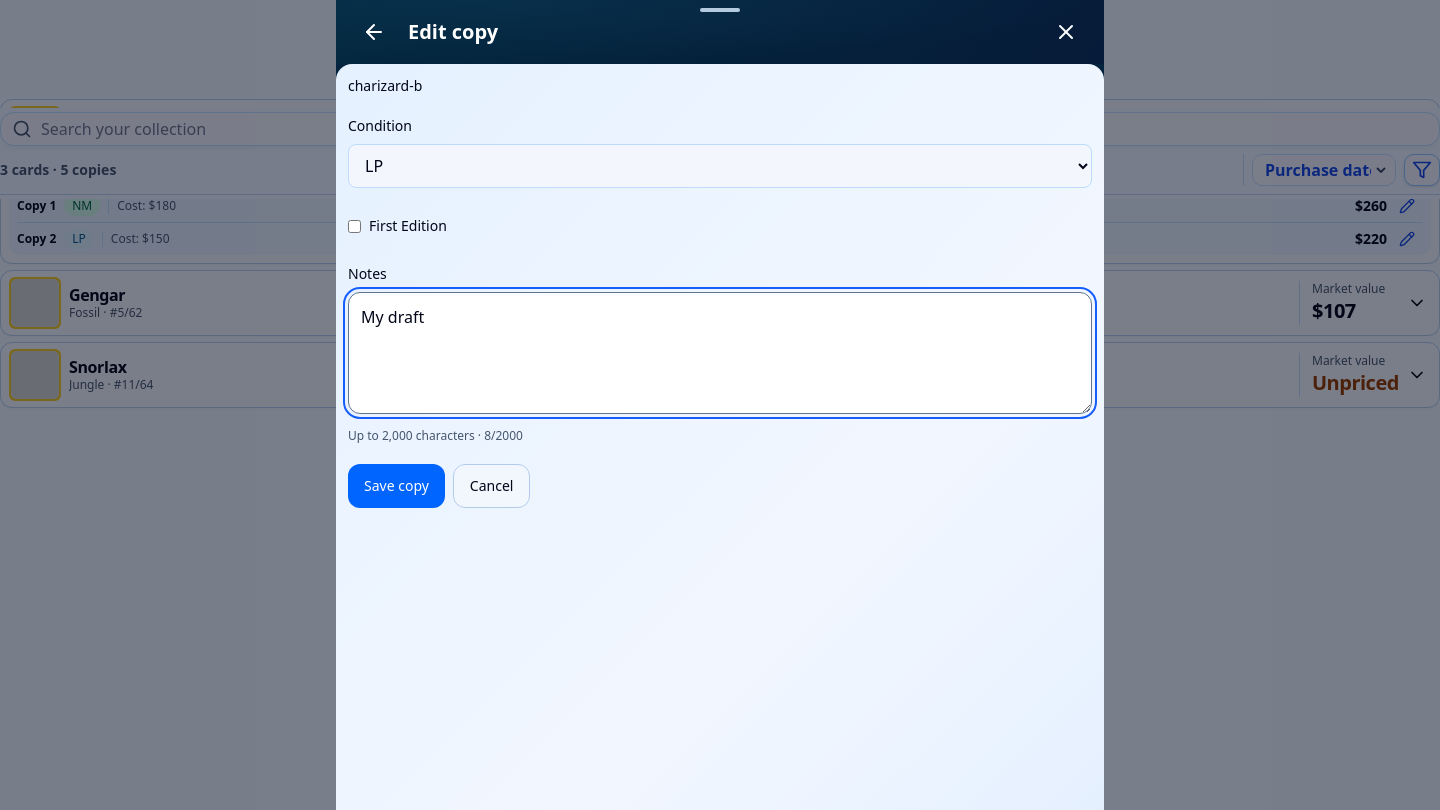
keeps a copy editor based on its opening snapshot when query data refreshes
The image size is (1440, 810).
Earlier steps of the test are not shown.
Click the button "Save copy". click: (396, 486)
box: 348,464 -> 445,508
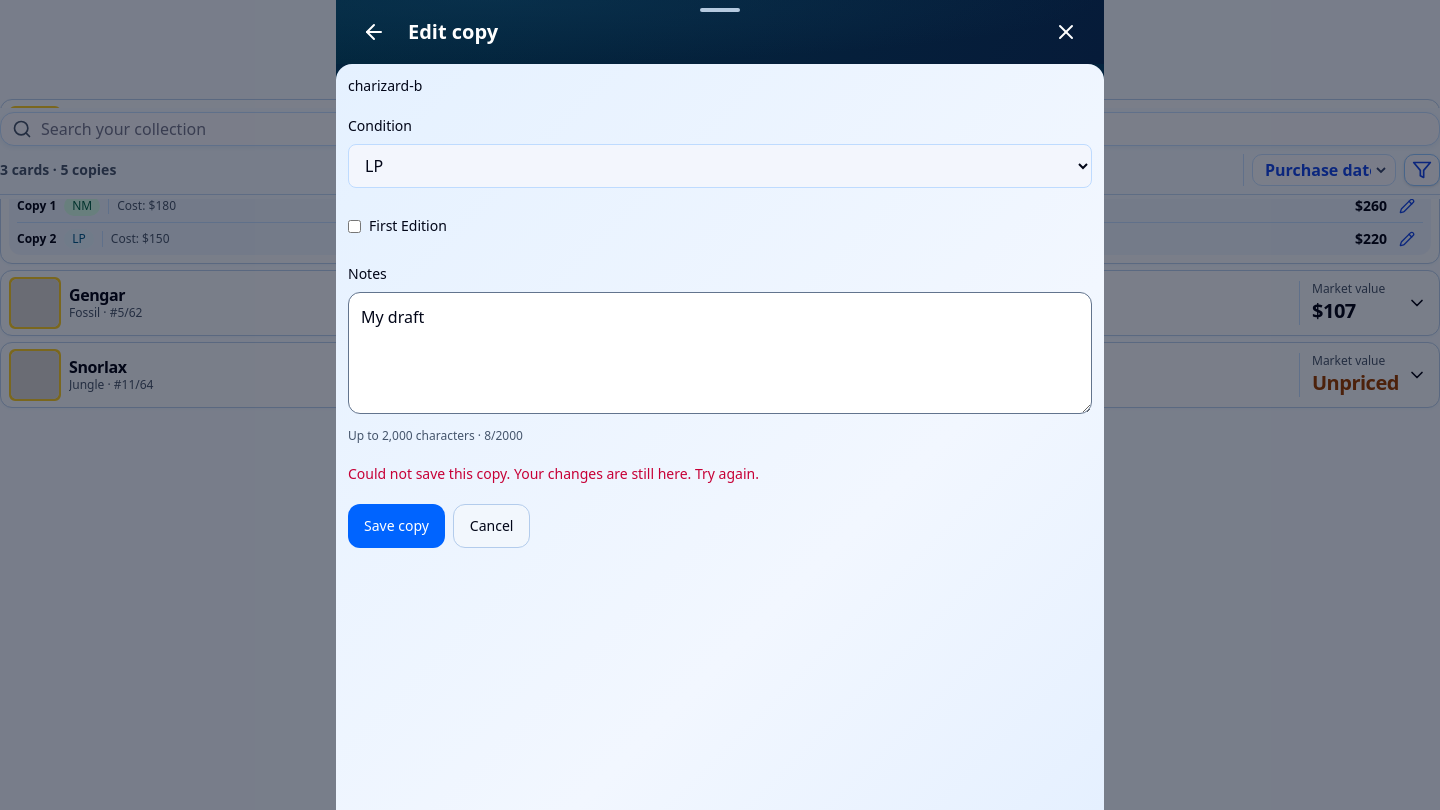
Expected: the message shows "Could not save", 348,464 -> 759,483
